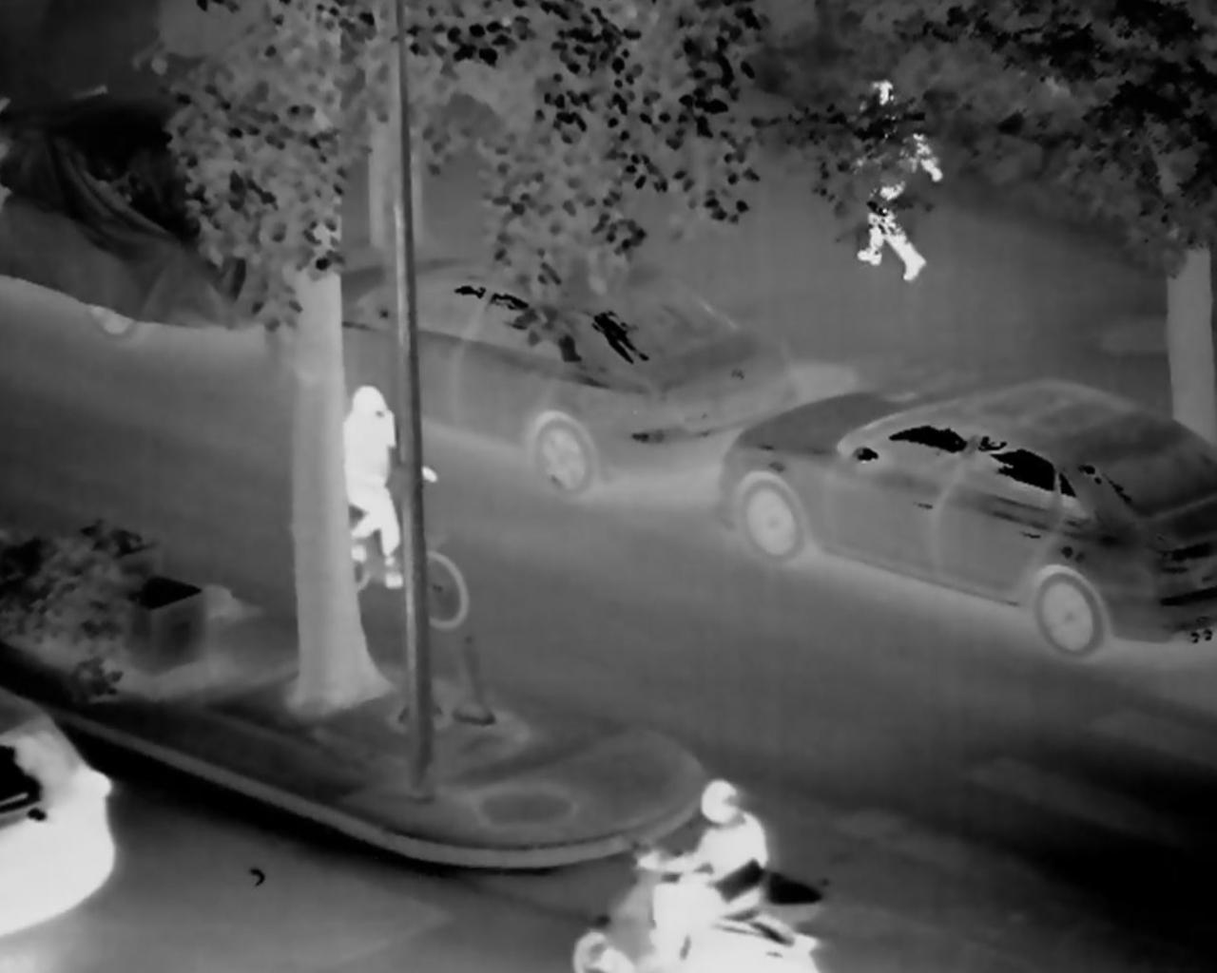person: (629, 773, 771, 958), (842, 67, 946, 283), (338, 383, 435, 594)
